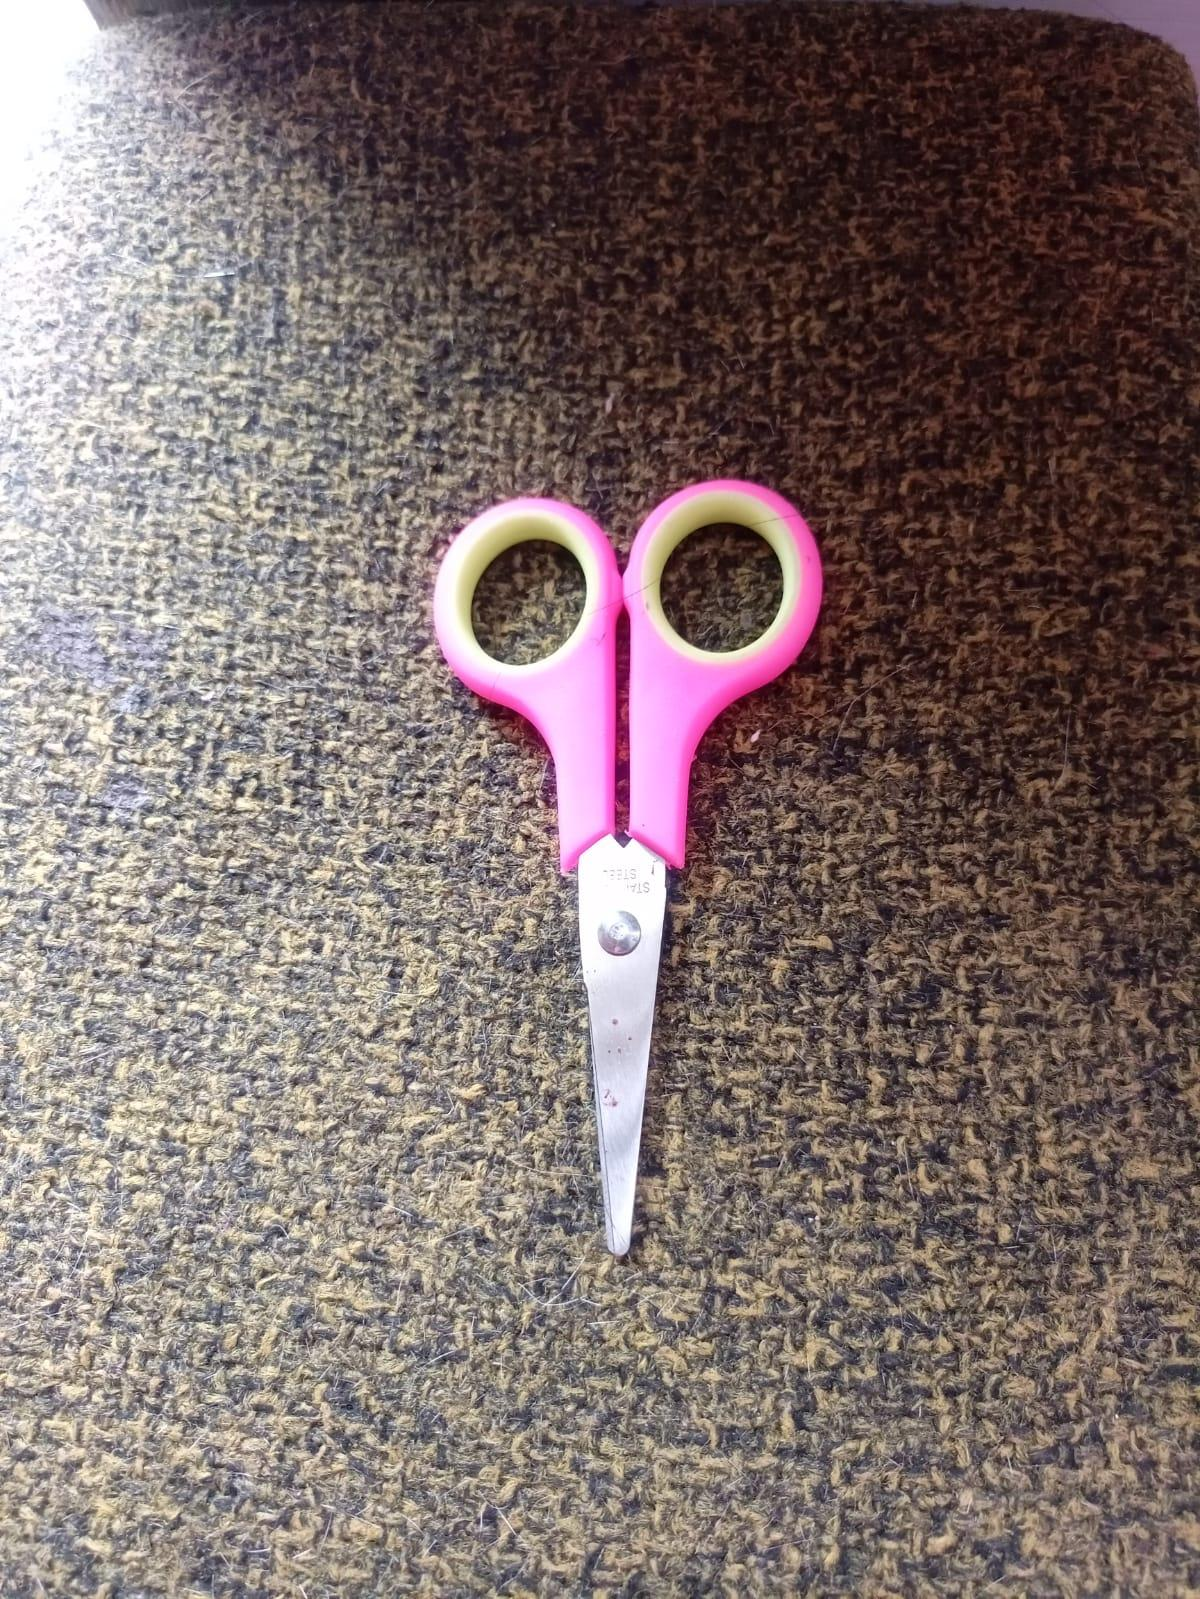scissors: (434, 481, 826, 1261)
